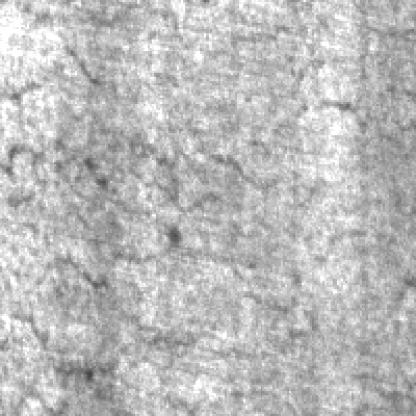crazing: (6, 102, 366, 222), (4, 258, 274, 385)
